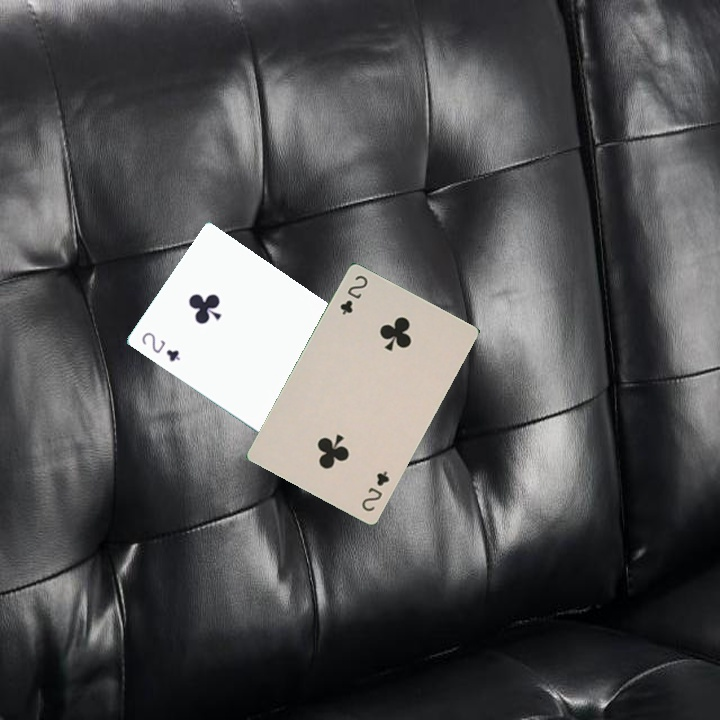2c: (137, 328, 183, 364), (357, 467, 392, 514), (336, 271, 370, 318)
